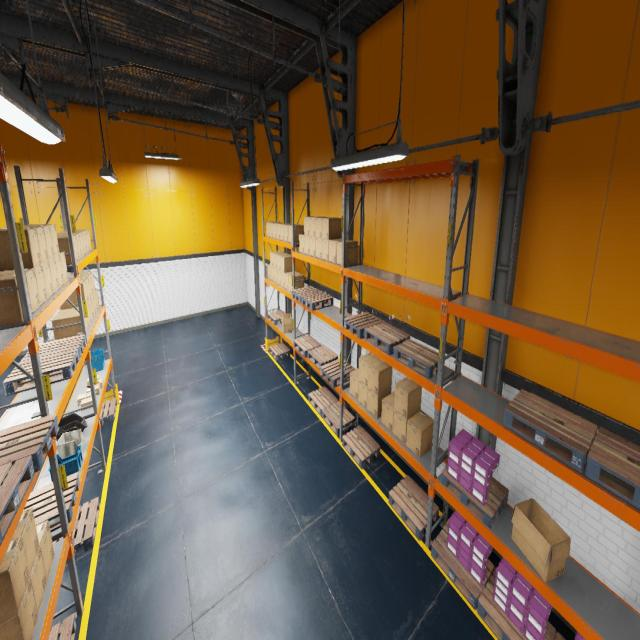box: (511, 498, 571, 582), (0, 536, 30, 624), (0, 578, 38, 639), (11, 508, 39, 575), (0, 268, 40, 313), (0, 226, 48, 263), (0, 228, 41, 270), (5, 225, 54, 260), (0, 273, 32, 326), (406, 410, 434, 459), (24, 224, 60, 257), (394, 377, 422, 419), (29, 546, 46, 615), (36, 520, 54, 582), (393, 410, 420, 444), (368, 359, 392, 395), (60, 280, 88, 310), (56, 307, 89, 332), (52, 312, 82, 339), (358, 352, 380, 387), (368, 388, 392, 418), (56, 232, 84, 256), (59, 231, 87, 254), (56, 234, 82, 258), (68, 274, 93, 298), (68, 272, 95, 294), (34, 264, 48, 305), (57, 234, 79, 260), (63, 230, 89, 252), (336, 240, 358, 265), (65, 229, 91, 250), (381, 392, 394, 432), (328, 238, 348, 263), (322, 218, 342, 240), (42, 261, 53, 298), (57, 237, 72, 264), (315, 217, 333, 238), (49, 257, 59, 293), (54, 255, 64, 288), (309, 216, 324, 237), (349, 368, 358, 401), (358, 380, 368, 409), (289, 273, 304, 292), (284, 271, 299, 290), (288, 225, 304, 242), (304, 216, 317, 236), (60, 252, 68, 284), (280, 255, 295, 272), (80, 277, 90, 301), (273, 252, 287, 268), (277, 253, 290, 270), (86, 381, 101, 395), (281, 313, 292, 332), (284, 224, 296, 241), (270, 250, 282, 266), (276, 223, 288, 239), (272, 222, 284, 238), (77, 392, 91, 405), (266, 222, 279, 236), (280, 223, 290, 240), (80, 397, 93, 410), (270, 222, 280, 238), (87, 374, 100, 386), (88, 298, 94, 322), (315, 238, 322, 258), (322, 239, 328, 261), (90, 378, 103, 388), (91, 295, 96, 317), (93, 291, 98, 313), (87, 302, 91, 327), (310, 236, 315, 256), (304, 235, 309, 255), (299, 234, 304, 253), (95, 288, 99, 309), (277, 270, 281, 285), (270, 266, 274, 281), (281, 272, 284, 288), (274, 268, 277, 283), (268, 264, 270, 279)
pallets: (503, 389, 598, 472), (431, 520, 494, 610), (477, 568, 556, 639), (584, 428, 640, 508), (441, 465, 508, 528), (0, 414, 59, 485), (3, 348, 80, 396), (23, 472, 80, 532), (388, 474, 439, 540), (52, 496, 100, 562), (0, 456, 35, 546), (393, 339, 444, 379), (21, 334, 86, 361), (342, 425, 380, 469), (364, 322, 410, 355), (322, 401, 355, 436), (343, 312, 384, 338), (320, 358, 355, 388), (308, 386, 338, 416), (307, 344, 338, 370), (48, 614, 76, 640), (293, 335, 321, 357), (301, 292, 333, 310), (291, 286, 320, 303), (100, 398, 116, 426), (268, 342, 290, 360), (267, 310, 285, 325), (554, 632, 566, 640)
